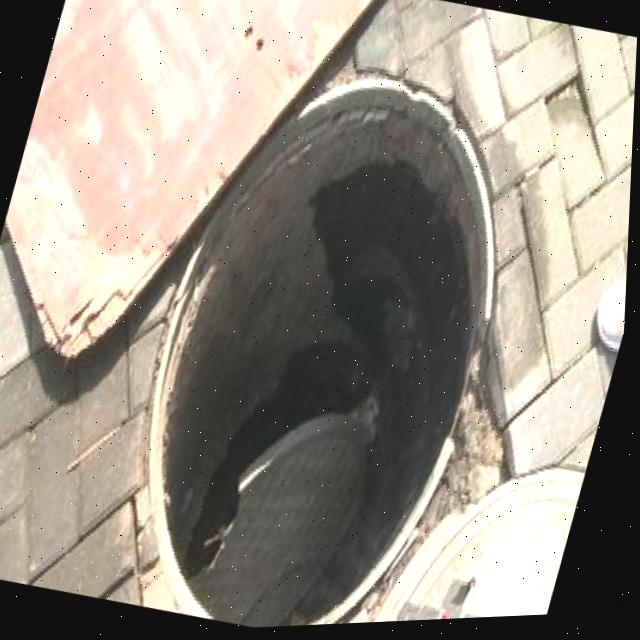manhole: (84, 27, 562, 636)
